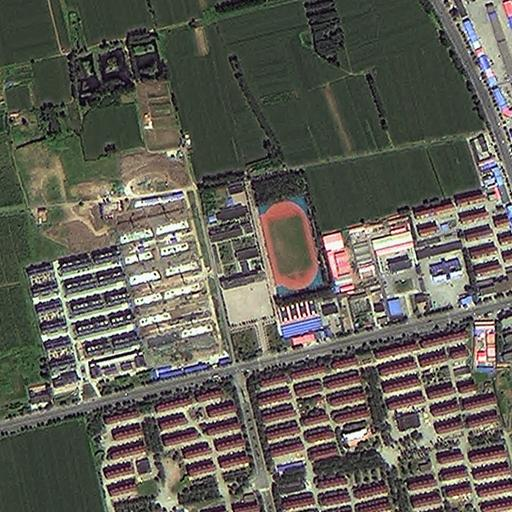school: (199, 174, 323, 340)
